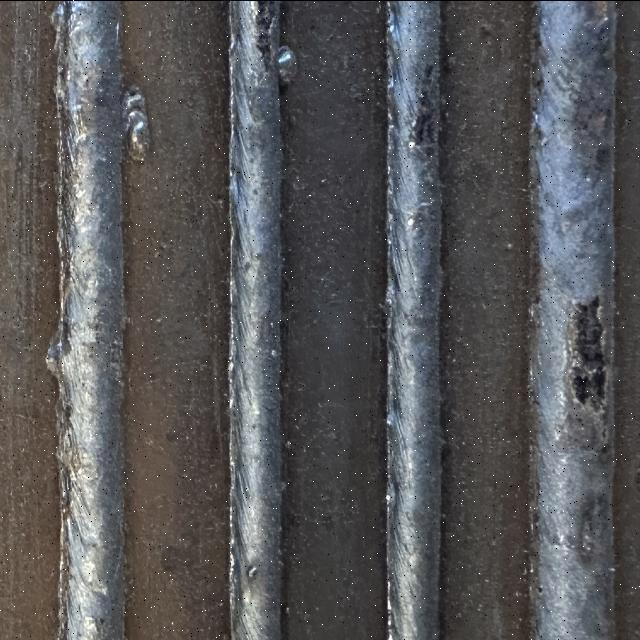Excess Reinforcement: (122, 85, 150, 160), (50, 0, 67, 75), (46, 320, 63, 383), (278, 45, 298, 83), (56, 397, 61, 433)
Spatters: (246, 563, 258, 577)
